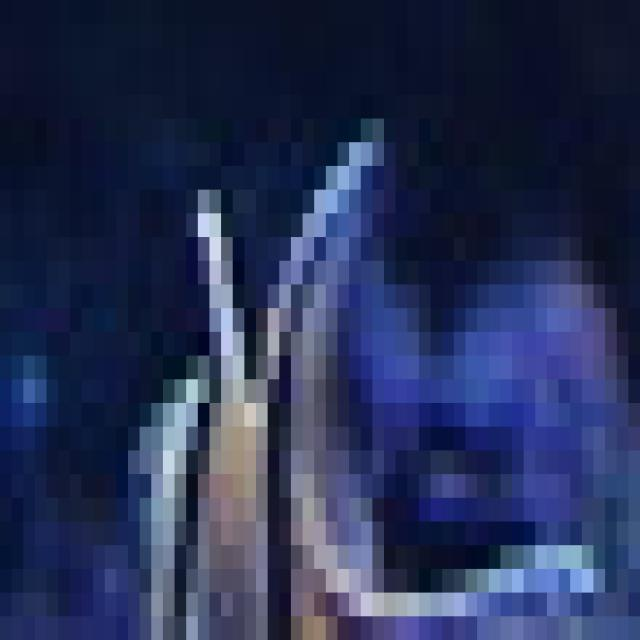fish: (11, 23, 640, 640)
